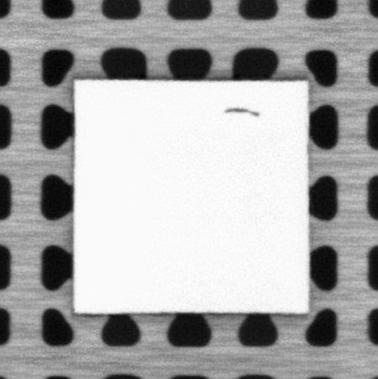DIE_INK: (223, 106, 259, 117)
